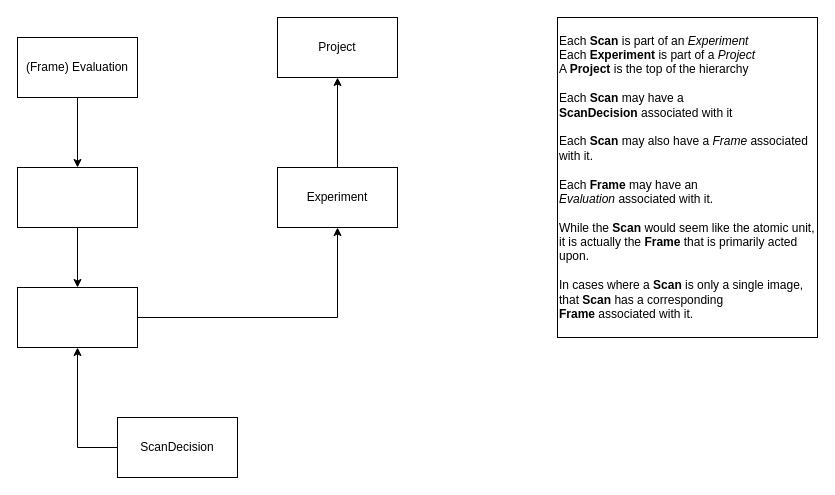
Some shapes in this 835 by 495 pixel diagram are drawn without their labels. The centre of each missing label's shape, as x and y in pixels:
"Frame" belongs at point (77, 197).
"Scan" belongs at point (77, 317).
